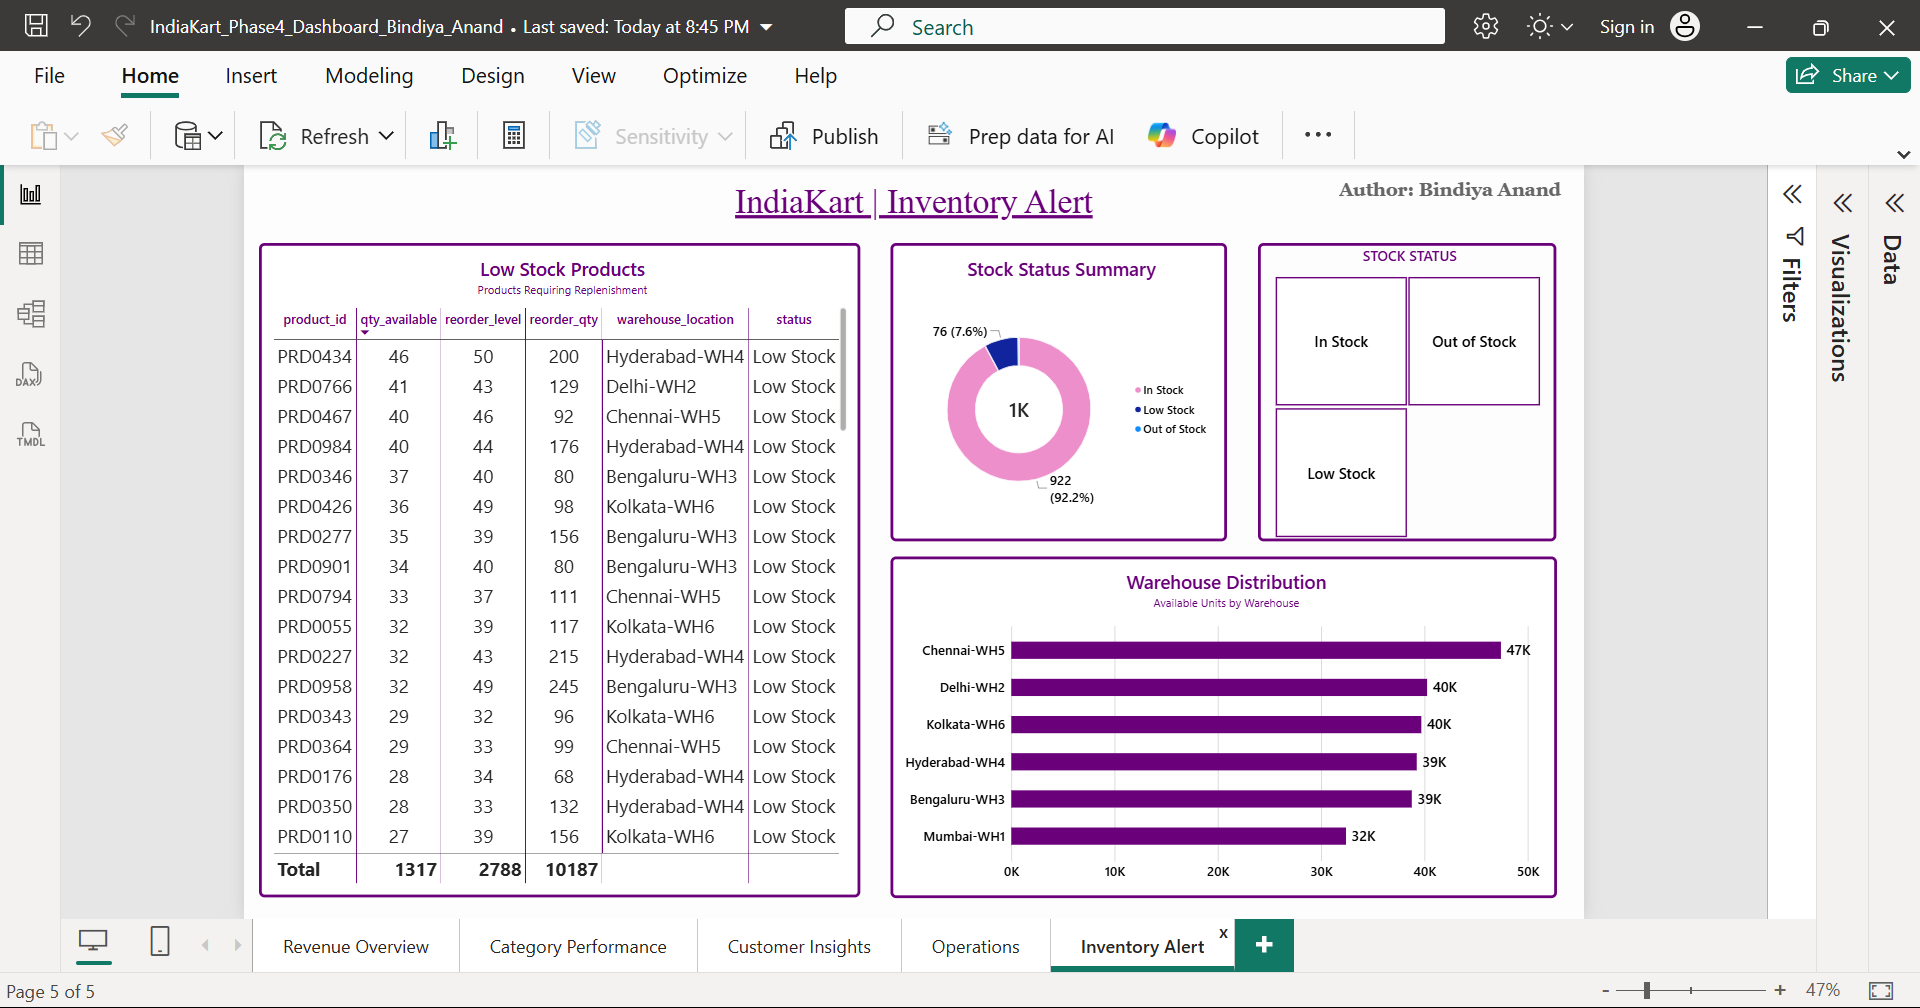

What the dashboard file says about the page in this screenshot:
{"tool":"powerbi","page":{"name":"Inventory Alert","canvas":[1920,1080],"ordinal":4},"visuals":[{"type":"donutChart","title":"Stock Status Summary","fields":{"Category":["inventory DA.status"],"Y":["CountNonNull(inventory DA.inventory_id)"]},"box":[925.7,112.1,482,427.1],"z":0},{"type":"textbox","box":[622.7,26.2,672.8,62],"z":1},{"type":"tableEx","title":"Low Stock Products","fields":{"Values":["inventory DA.product_id","Sum(inventory DA.quantity_available)","Sum(inventory DA.reorder_level)","Sum(inventory DA.reorder_quantity)","inventory DA.warehouse_location","inventory DA.status"]},"box":[21.5,112.1,861.3,937.7],"z":2},{"type":"clusteredBarChart","title":"Warehouse Distribution","fields":{"Category":["inventory DA.warehouse_location"],"Y":["Sum(inventory DA.quantity_available)"]},"box":[925.7,560.7,954.4,489.1],"z":3},{"type":"slicer","title":"STOCK STATUS","fields":{"Values":["inventory DA.status"]},"box":[1453,112.1,427.1,427.1],"z":4}]}

Visuals, with their boxes on the page's 1920x1080 design canvas (x1, y1, x2, y2). These are canvas units, not pixel positions in the 1920x1008 screenshot, which may show the page scaled, cropped or inside an application window:
"Stock Status Summary" donutChart: <bbox>926, 112, 1408, 539</bbox>
textbox: <bbox>623, 26, 1296, 88</bbox>
"Low Stock Products" tableEx: <bbox>22, 112, 883, 1050</bbox>
"Warehouse Distribution" clusteredBarChart: <bbox>926, 561, 1880, 1050</bbox>
"STOCK STATUS" slicer: <bbox>1453, 112, 1880, 539</bbox>
